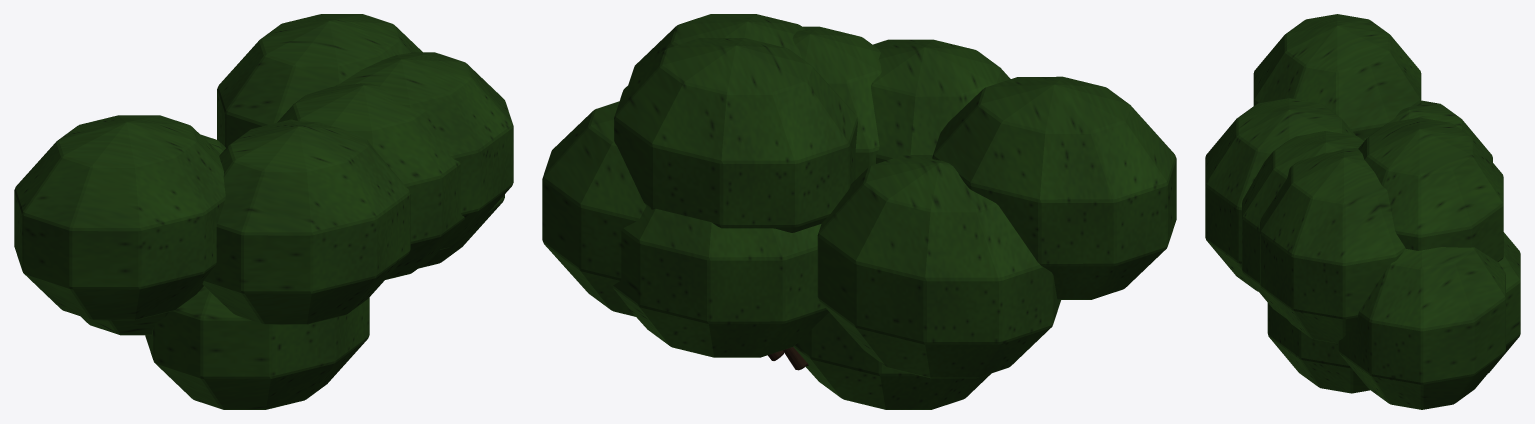
File: PROP-595D1B8CDE5C_lod1.glb
The picture shows the model from 3 angles, left to right: view 1: azimuth 30°, elevation 25°; view 2: azimuth 150°, elevation 25°; view 3: azimuth 270°, elevation 25°; orthographic projection. The views are drawn at different scales.
Parts seen in each view (by area): view 1: foliage.005; view 2: foliage.005; view 3: foliage.005.
Boxes of the visible parts, box(x1,y1,x2,y2) form: foliage.005: box(14, 14, 513, 409); foliage.005: box(542, 14, 1176, 409); foliage.005: box(1205, 14, 1520, 409).
Size of the model in its own units: 1.42 by 0.8594 by 0.8158.
2 materials, 2 textured.
